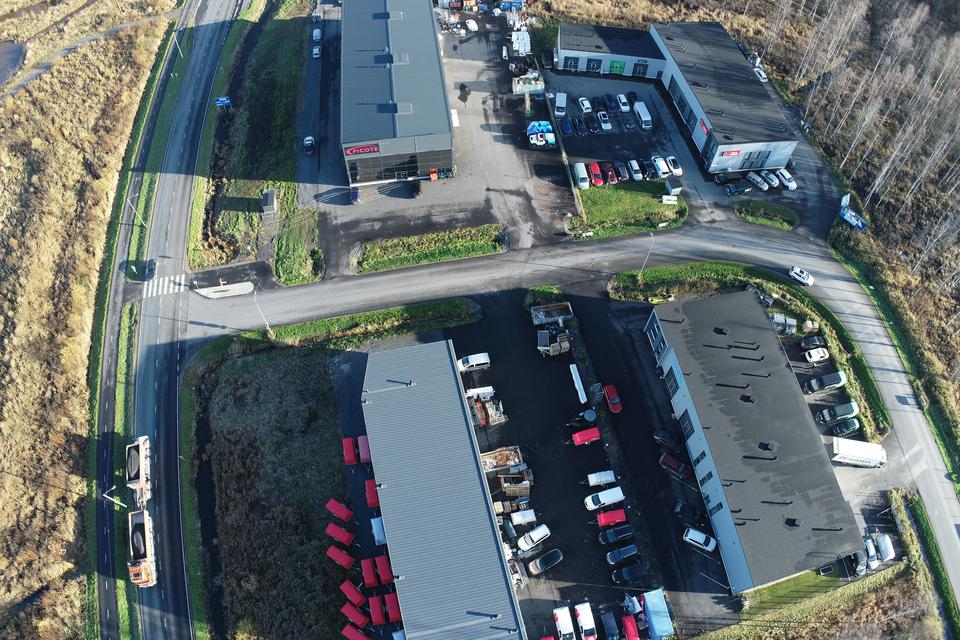intersection: (77, 256, 220, 370)
